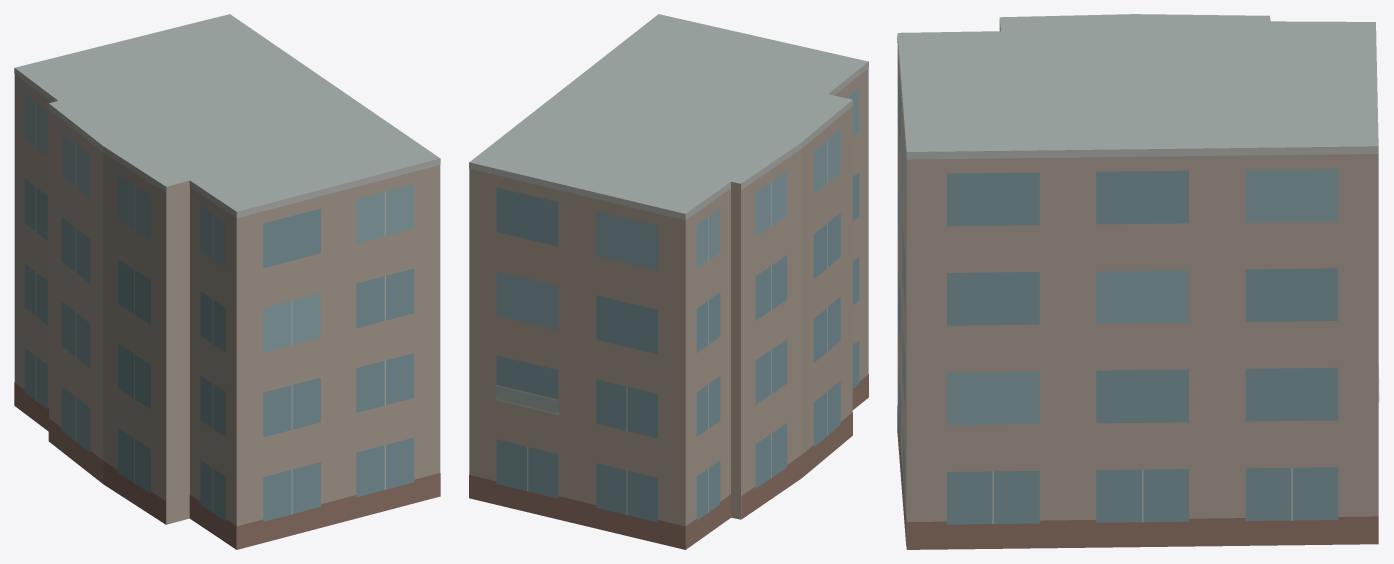
File: survey-upis-32620640.glb
3 views of the same model, side by side, from view 1: azimuth 30°, elevation 25°; view 2: azimuth 150°, elevation 25°; view 3: azimuth 270°, elevation 25° (orthographic). The views are drawn at different scales.
Parts seen in each view (by area): view 1: survey-upis-32620640.tmp; view 2: survey-upis-32620640.tmp; view 3: survey-upis-32620640.tmp.
Boxes of the visible parts, <box> form: survey-upis-32620640.tmp: <box>14,14,440,549</box>; survey-upis-32620640.tmp: <box>469,14,868,549</box>; survey-upis-32620640.tmp: <box>897,14,1379,549</box>.
Bounding box in the file's own units: 9.61 × 12.9 × 14.18.
